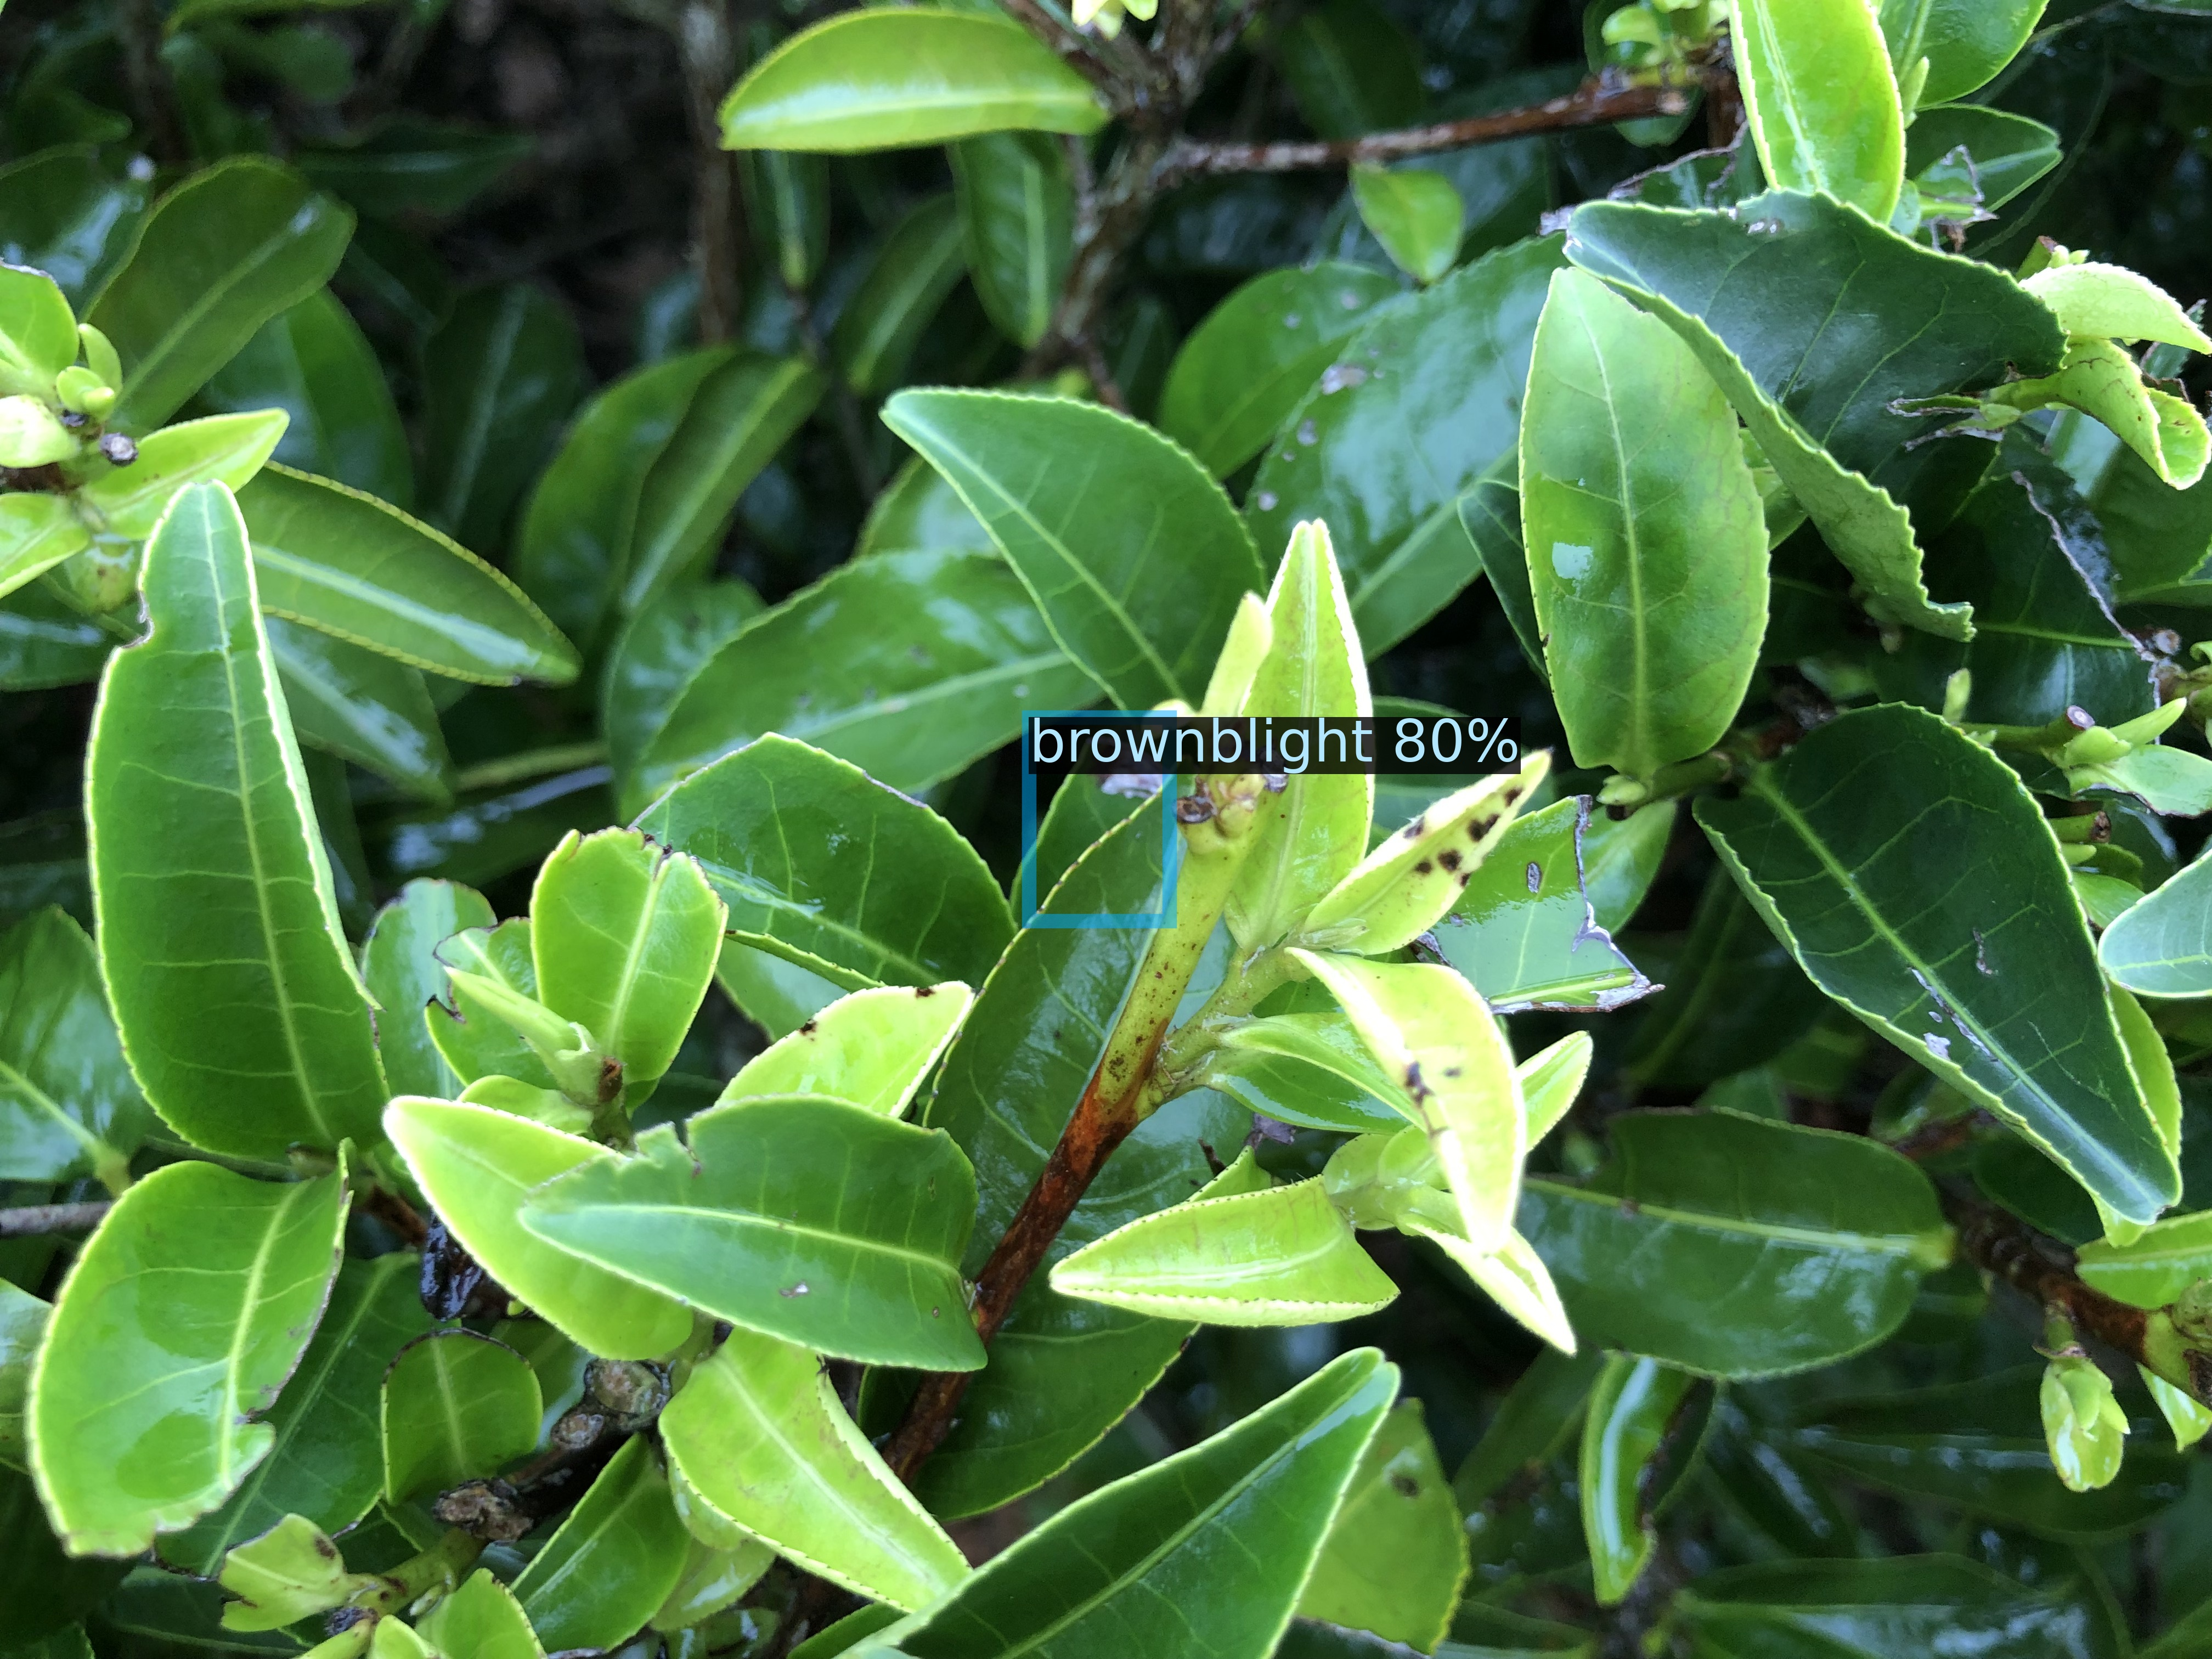brownblight: (1029, 718, 1170, 922)
